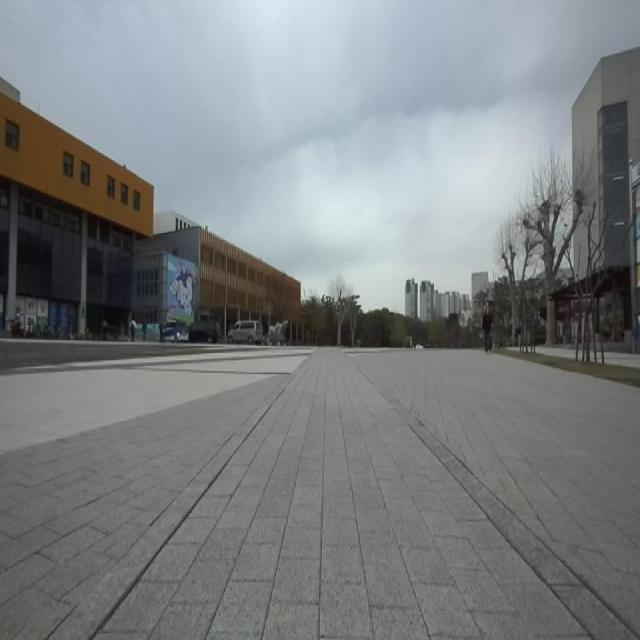sidewalk: (50, 351, 637, 639)
